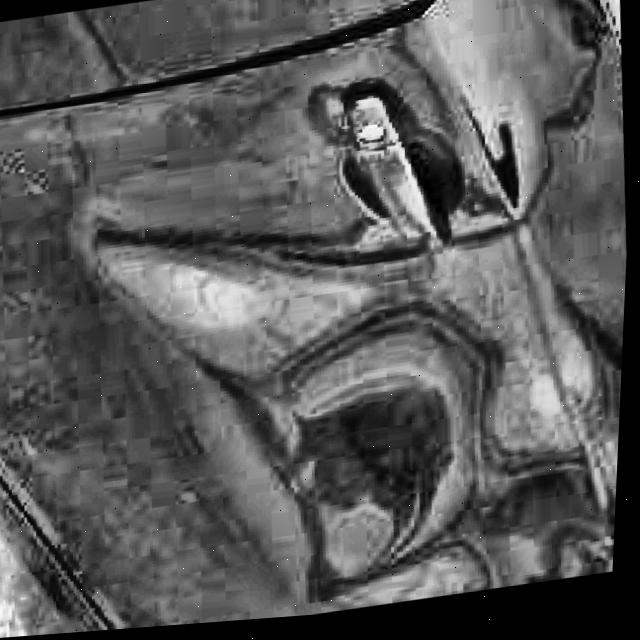door_dent: (79, 125, 463, 350)
